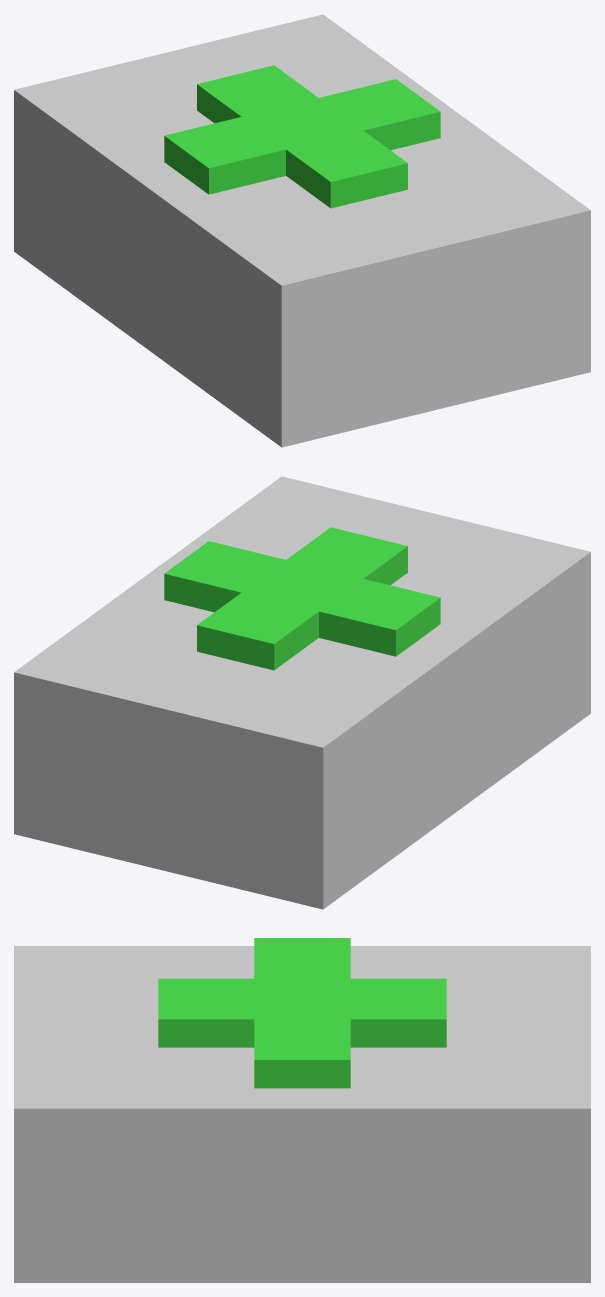
Rendered from medkit.fbx.
The picture shows the model from 3 angles, top to bottom: view 1: azimuth 30°, elevation 25°; view 2: azimuth 150°, elevation 25°; view 3: azimuth 270°, elevation 25°; orthographic projection. The views are drawn at different scales.
Visible parts, largest first — view 1: Medkit; view 2: Medkit; view 3: Medkit.
Boxes of the visible parts, x1,y1,x2,y2 form: Medkit: (14, 14, 590, 447); Medkit: (14, 476, 590, 909); Medkit: (14, 938, 590, 1282).
Bounding box in the file's own units: 400 × 233 × 600.
